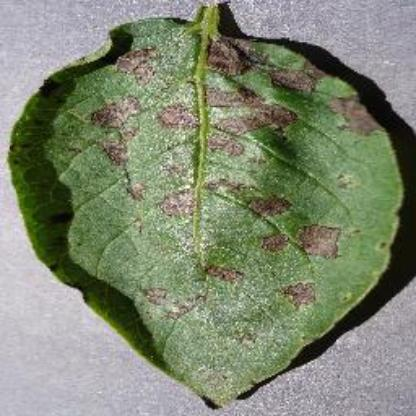Early-Blight: (8, 7, 410, 405)
